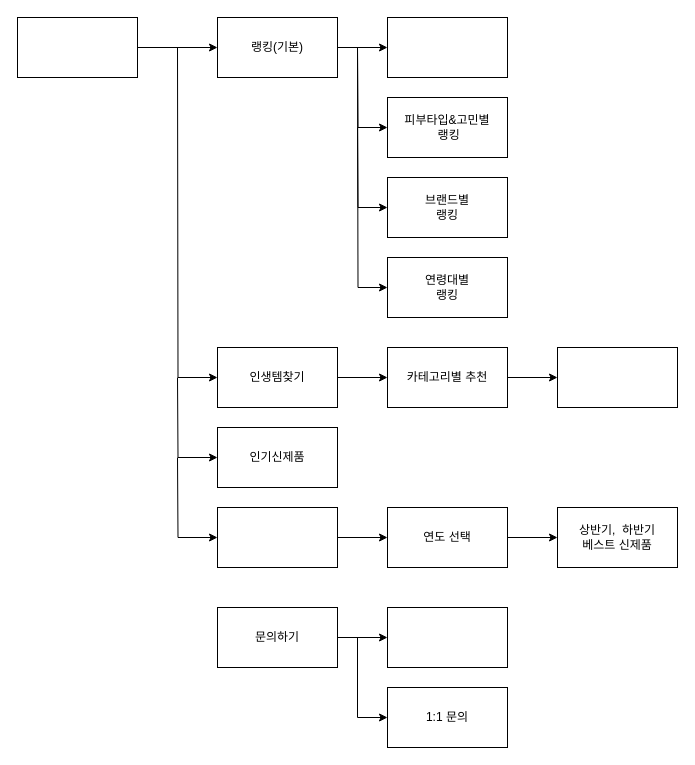
Image size: 695x765. Some labels were removed from this diagram. Here are the shapes that lost their labels. From the top down, the box of each, then its label:
(16, 16, 138, 78): 발견
(386, 16, 508, 78): 카테고리별 랭킹
(556, 346, 678, 408): 피부 타입, 카테고리별 추천
(216, 506, 338, 568): 어워드
(386, 606, 508, 668): 자주 묻는 질문
